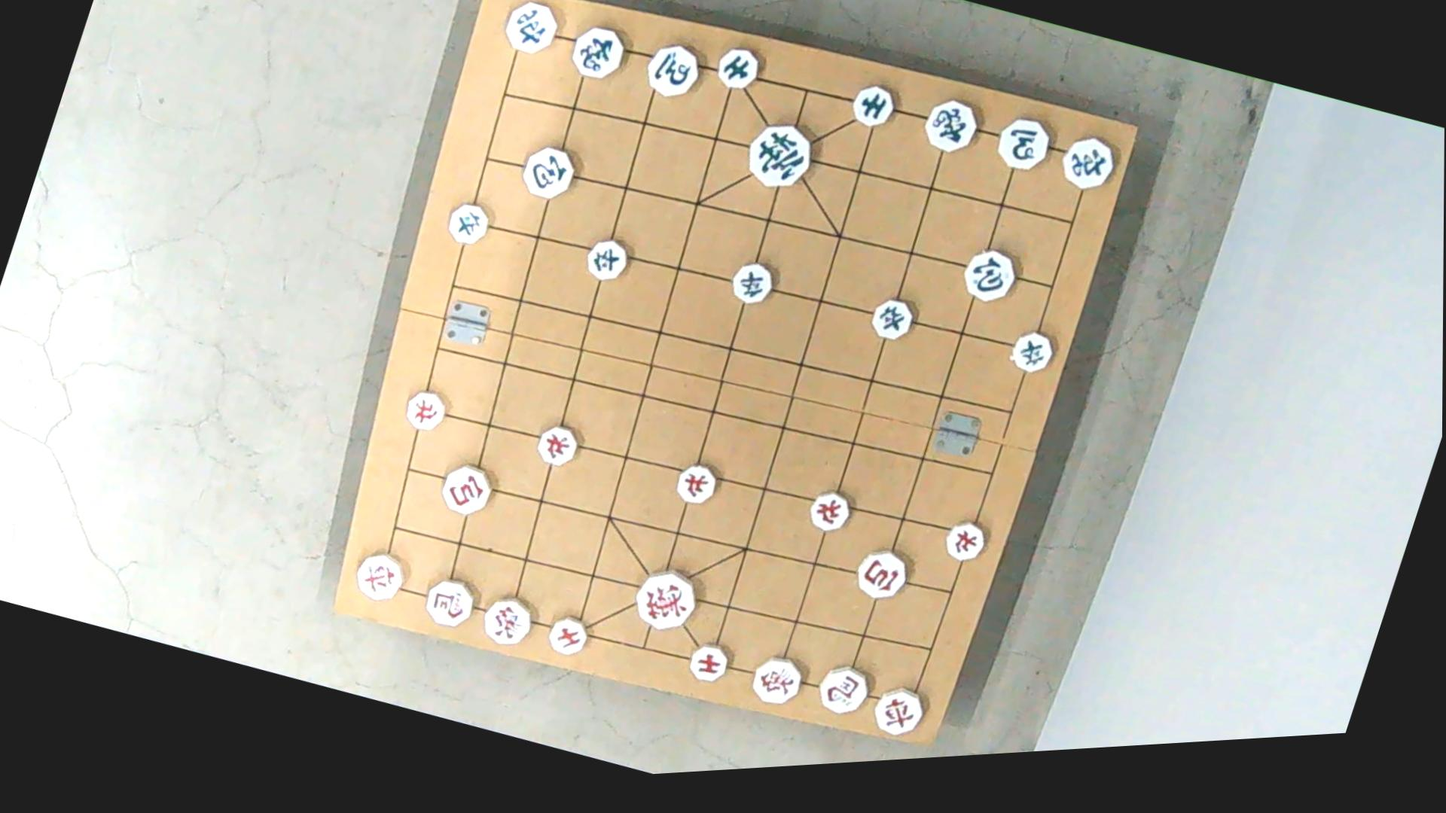cha_green: (1055, 130, 1124, 197), (499, 0, 564, 59)
cha_red: (869, 680, 932, 741), (350, 546, 412, 604)
jol_green: (725, 260, 780, 311), (865, 297, 918, 348), (1003, 328, 1056, 378), (581, 235, 633, 285), (442, 199, 493, 249)
jol_red: (529, 422, 581, 470), (808, 486, 859, 534), (939, 518, 990, 566), (671, 460, 721, 508), (403, 388, 453, 436)
ma_green: (640, 36, 706, 102), (993, 113, 1060, 177)
ma_red: (810, 659, 875, 720), (422, 571, 483, 630)
po_green: (517, 141, 583, 203), (958, 244, 1022, 307)
po_red: (849, 544, 911, 604), (439, 460, 500, 519)
sa_green: (850, 81, 901, 132), (711, 42, 761, 94)
sa_red: (544, 613, 594, 660), (685, 640, 734, 687)
sang_green: (566, 19, 632, 84), (918, 96, 981, 161)
sang_red: (477, 592, 539, 653), (746, 649, 807, 708)
wang_green: (743, 116, 822, 193)
wang_red: (630, 562, 702, 633)
